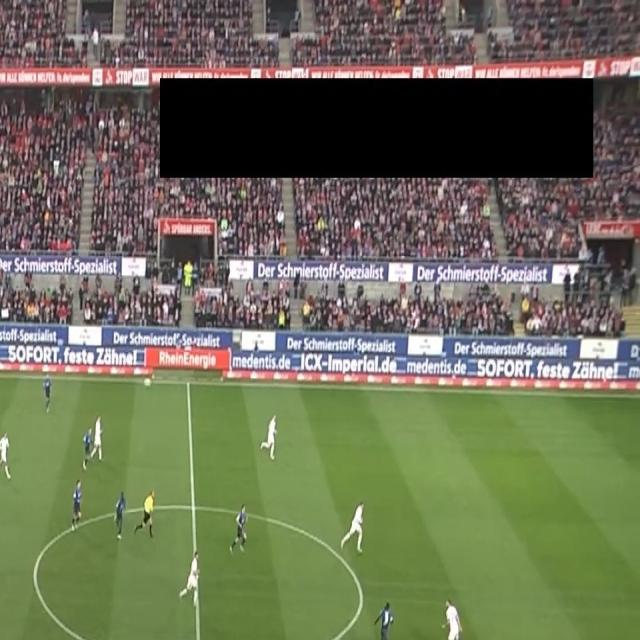ball: (143, 376, 153, 388)
